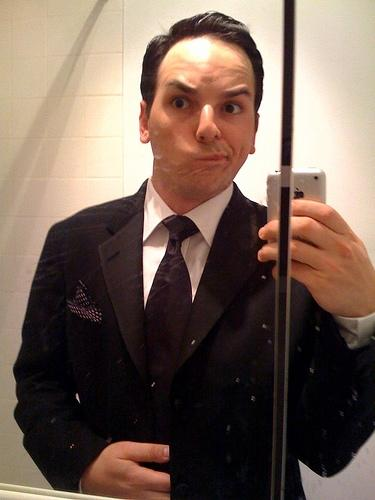apple: (293, 187, 304, 199)
